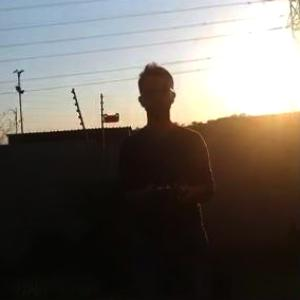follow: (112, 54, 220, 299)
